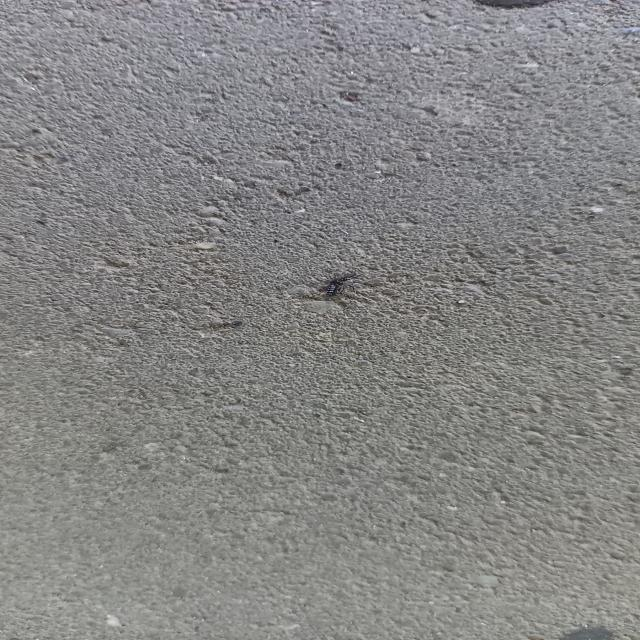albopictus: (277, 267, 379, 309)
